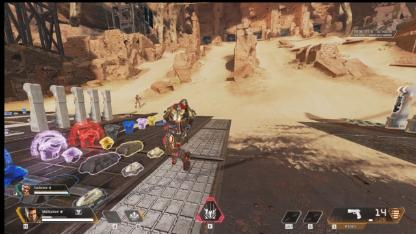Target: (163, 98, 195, 170), (133, 94, 141, 108)
